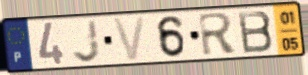4: (36, 21, 66, 68)
6: (154, 14, 187, 59)
B: (236, 9, 276, 55)
J: (71, 18, 102, 65)
R: (196, 11, 240, 58)
V: (111, 15, 148, 62)
